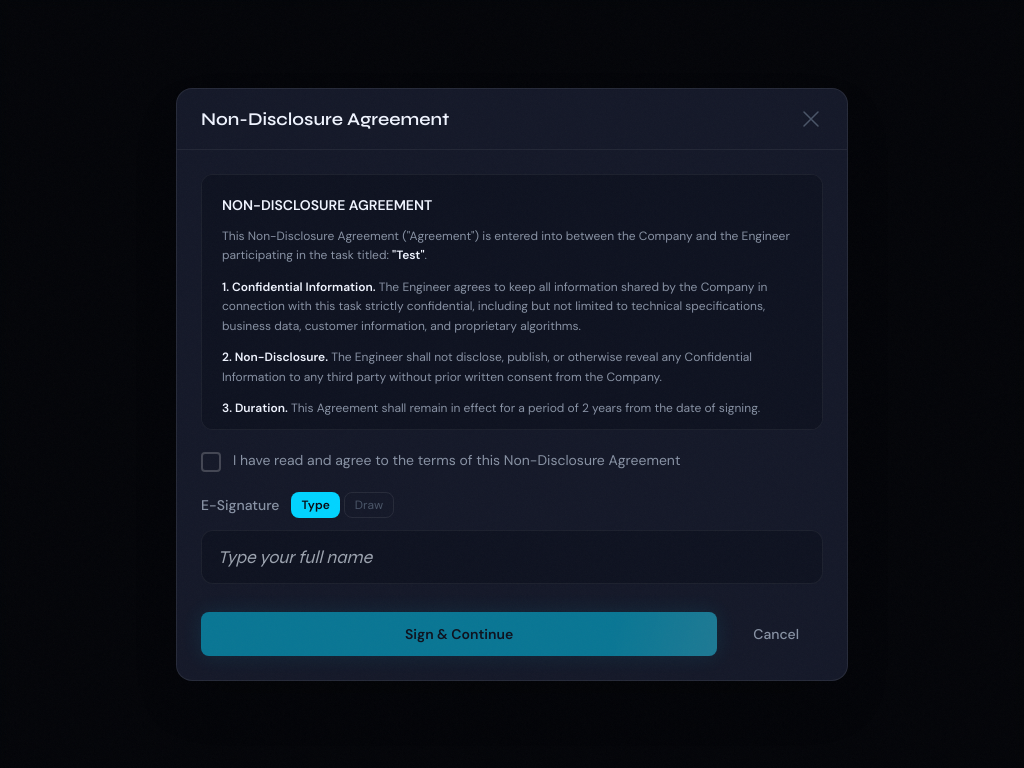
Scenario: NDAModal — signature canvas (touch device support) › shows confirmation screen after signing
Click the checkbox.
click(211, 462)  # box [201,452,221,472]
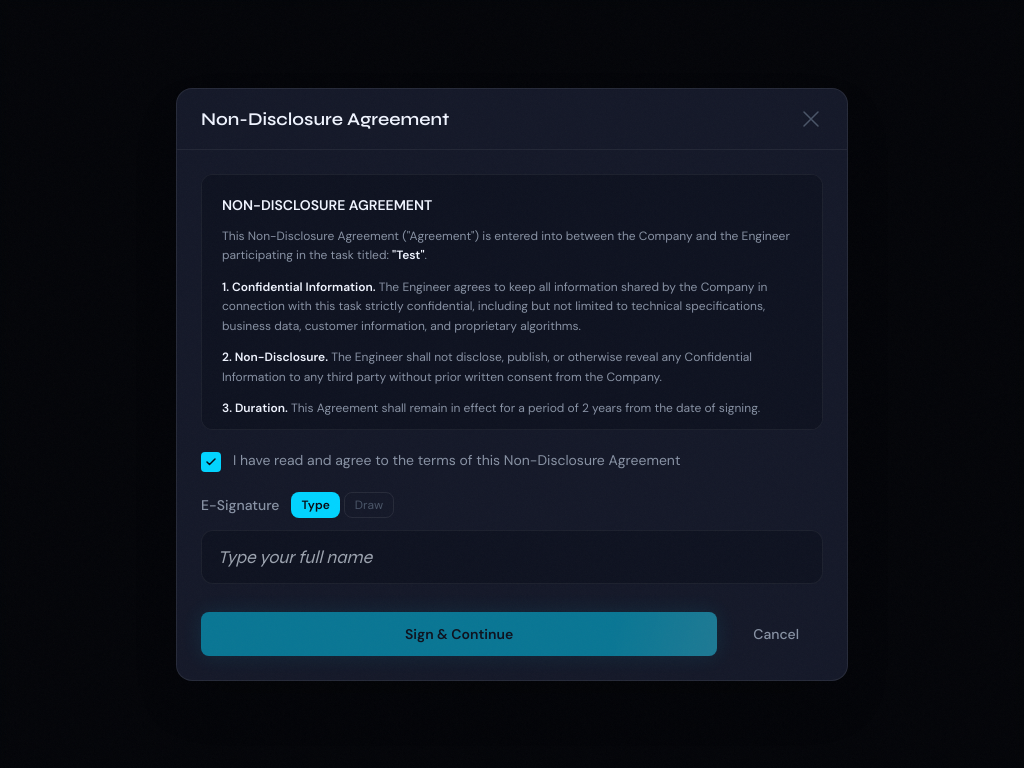
Type "Test User" into the field with test id "nda-signature-input".
click(512, 556); type("Test User")  # box [201,530,823,584]
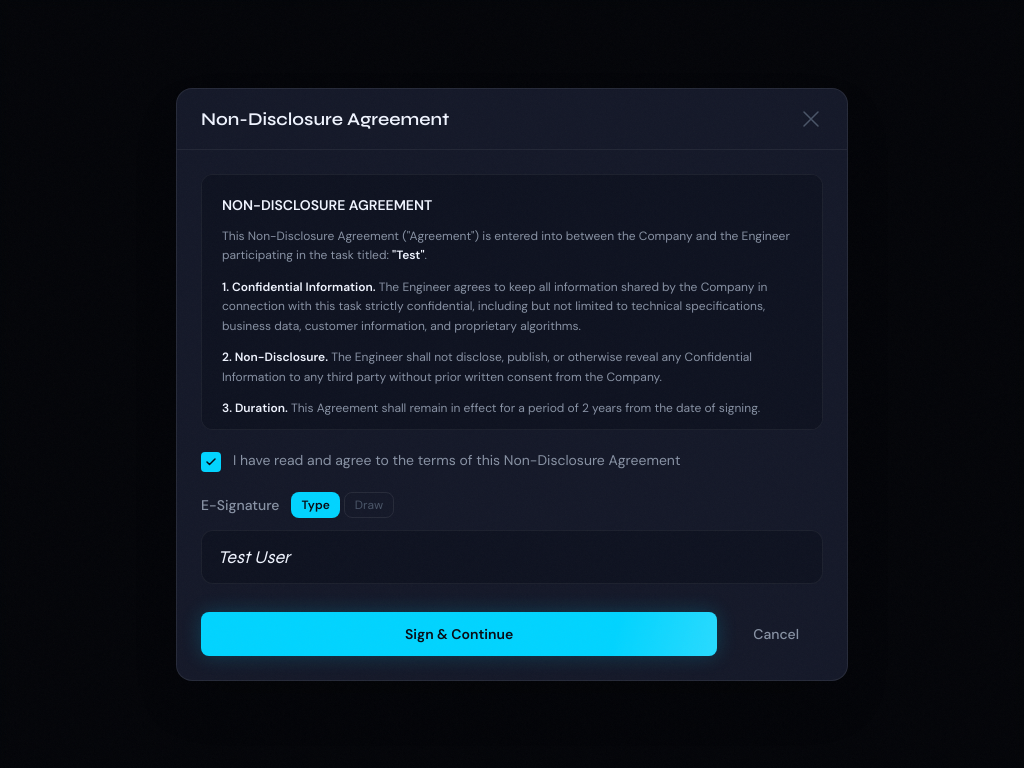
Click the button with test id "nda-sign-btn".
click(459, 634)  # box [201,612,717,656]
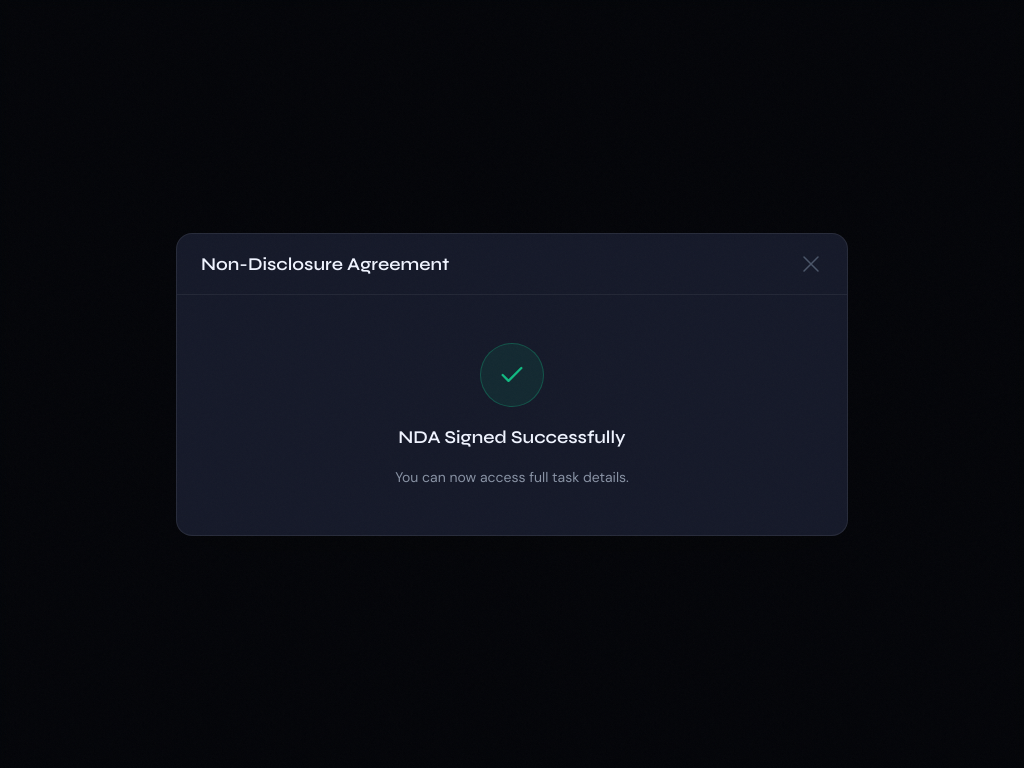
Result: the text "NDA Signed Successfully" is shown at [398,422,626,450]
